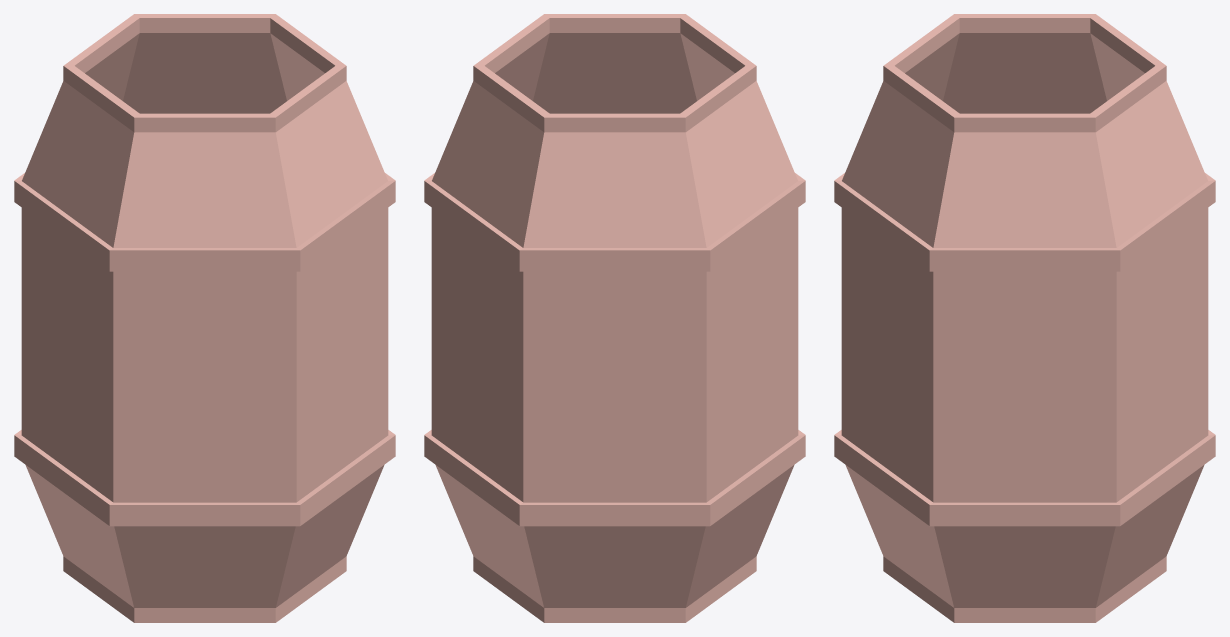
The model's file is Mega_Asset_s_Pack_Cylinder_036.FBX.
3 views of the same model, side by side, from view 1: azimuth 30°, elevation 25°; view 2: azimuth 150°, elevation 25°; view 3: azimuth 270°, elevation 25° (orthographic).
Parts seen in each view (by area): view 1: Mega_Asset_s_Pack_Cylinder_036; view 2: Mega_Asset_s_Pack_Cylinder_036; view 3: Mega_Asset_s_Pack_Cylinder_036.
Boxes of the visible parts, x1=… form: Mega_Asset_s_Pack_Cylinder_036: x1=14, y1=14, x2=395, y2=622; Mega_Asset_s_Pack_Cylinder_036: x1=424, y1=14, x2=805, y2=622; Mega_Asset_s_Pack_Cylinder_036: x1=834, y1=14, x2=1215, y2=622.
Size of what is drawn, in the model's own units: 108 by 124 by 182.
